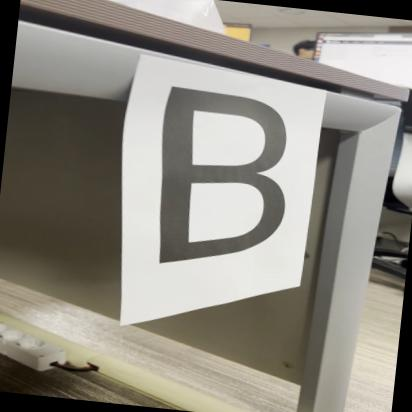seat: (139, 65, 297, 300)
